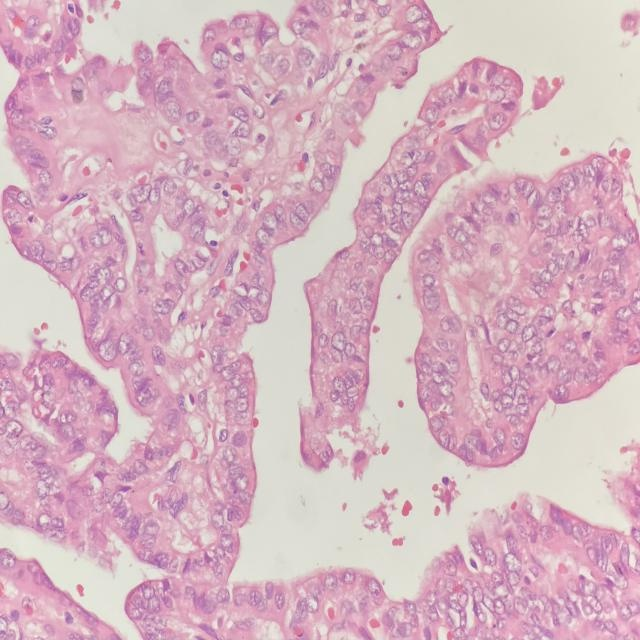TC: (128, 177, 154, 210), (418, 285, 444, 313), (493, 179, 513, 213), (231, 462, 252, 493), (421, 250, 447, 275), (117, 323, 135, 357), (330, 324, 349, 356), (148, 340, 167, 372), (186, 216, 206, 245), (110, 268, 130, 297), (207, 507, 228, 533), (252, 282, 271, 309), (525, 182, 543, 210), (370, 238, 389, 264), (231, 393, 253, 415), (131, 457, 153, 479), (307, 173, 327, 197), (330, 369, 348, 395), (222, 355, 243, 377), (441, 354, 462, 376), (344, 295, 363, 319), (261, 208, 279, 232), (215, 426, 231, 453), (486, 237, 504, 261), (196, 386, 212, 412), (209, 279, 225, 302), (163, 176, 177, 199)
